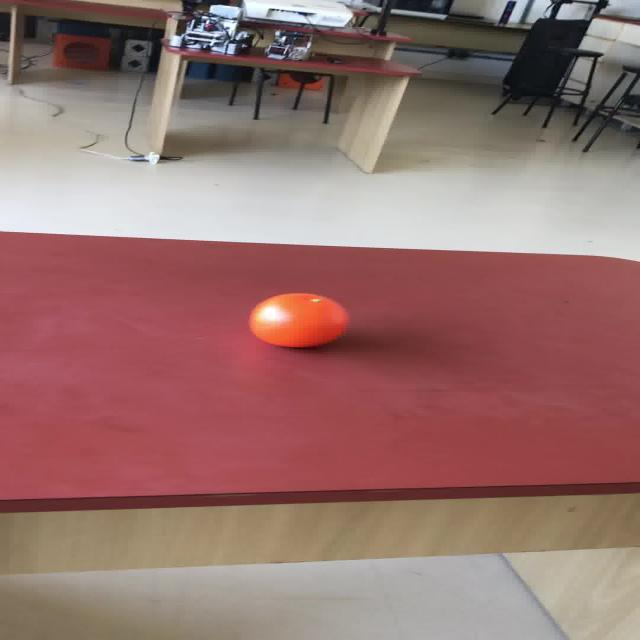orange: (246, 292, 348, 348)
